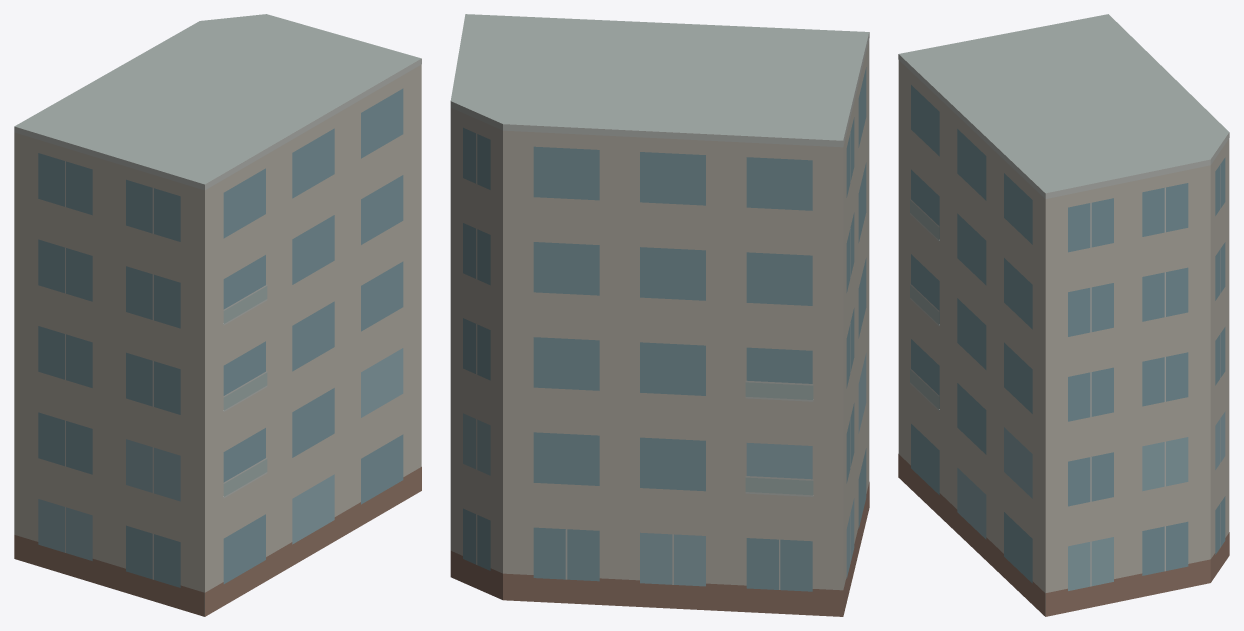
File: survey-upis-32736512.glb
3 views of the same model, side by side, from view 1: azimuth 30°, elevation 25°; view 2: azimuth 150°, elevation 25°; view 3: azimuth 270°, elevation 25° (orthographic). The views are drawn at different scales.
Visible parts, largest first — view 1: survey-upis-32736512.tmp; view 2: survey-upis-32736512.tmp; view 3: survey-upis-32736512.tmp.
Part boxes in pixels (x1,y1,x2,y2): survey-upis-32736512.tmp: (14,14,421,616); survey-upis-32736512.tmp: (450,14,869,616); survey-upis-32736512.tmp: (898,14,1229,616).
Bounding box in the file's own units: 16.27 × 17.9 × 12.68.
